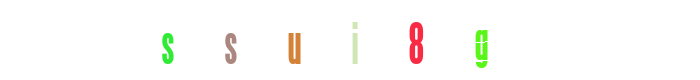8: (310, 0, 390, 80)
G: (376, 0, 456, 80)
I: (309, 0, 389, 80)
S: (203, 0, 283, 80), (254, 0, 334, 80)
U: (303, 0, 383, 80)
